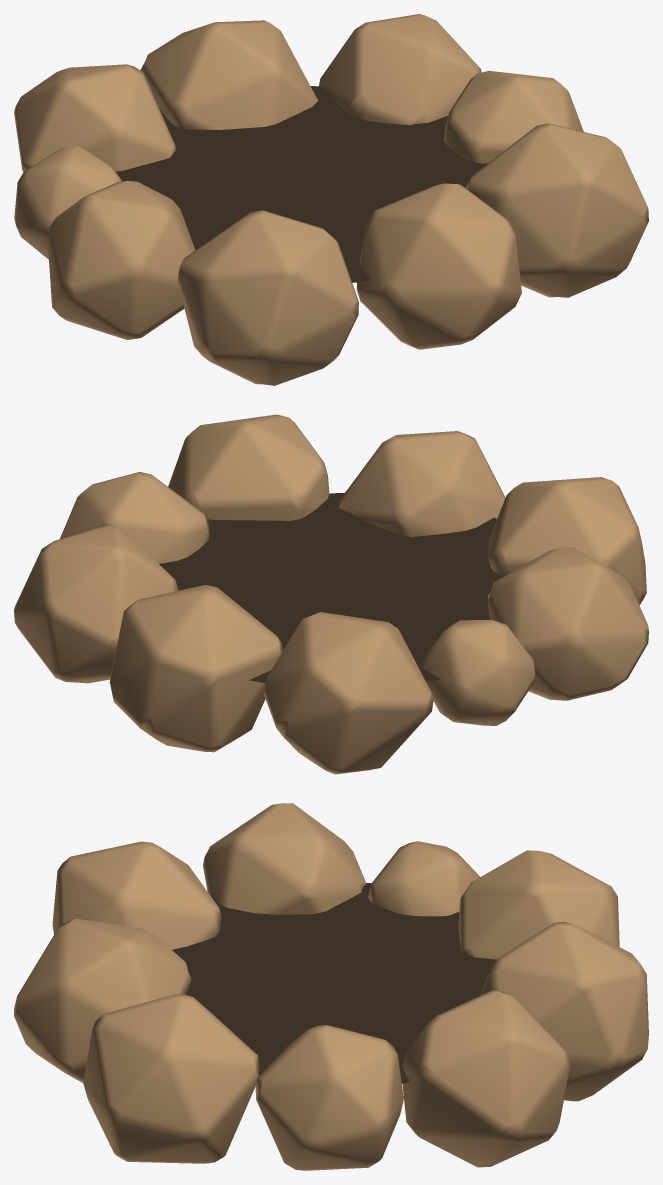
The model's file is campfire_1.fbx.
The picture shows the model from 3 angles, top to bottom: view 1: azimuth 30°, elevation 25°; view 2: azimuth 150°, elevation 25°; view 3: azimuth 270°, elevation 25°; orthographic projection. The views are drawn at different scales.
Visible parts, largest first — view 1: campfire_1; view 2: campfire_1; view 3: campfire_1.
Part boxes in pixels (x1=…): campfire_1: x1=14, y1=14, x2=648, y2=385; campfire_1: x1=14, y1=414, x2=648, y2=774; campfire_1: x1=14, y1=803, x2=648, y2=1170.
Size of the model in its own units: 1.46 by 0.4008 by 1.42.
